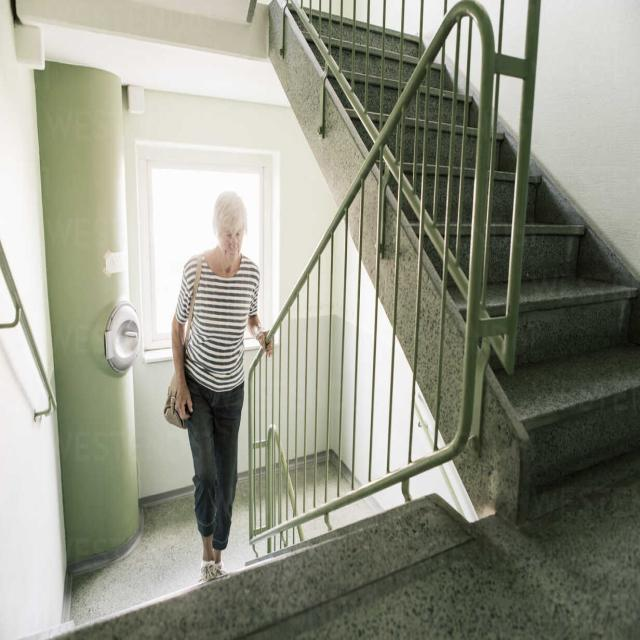stairs: (280, 2, 639, 526)
